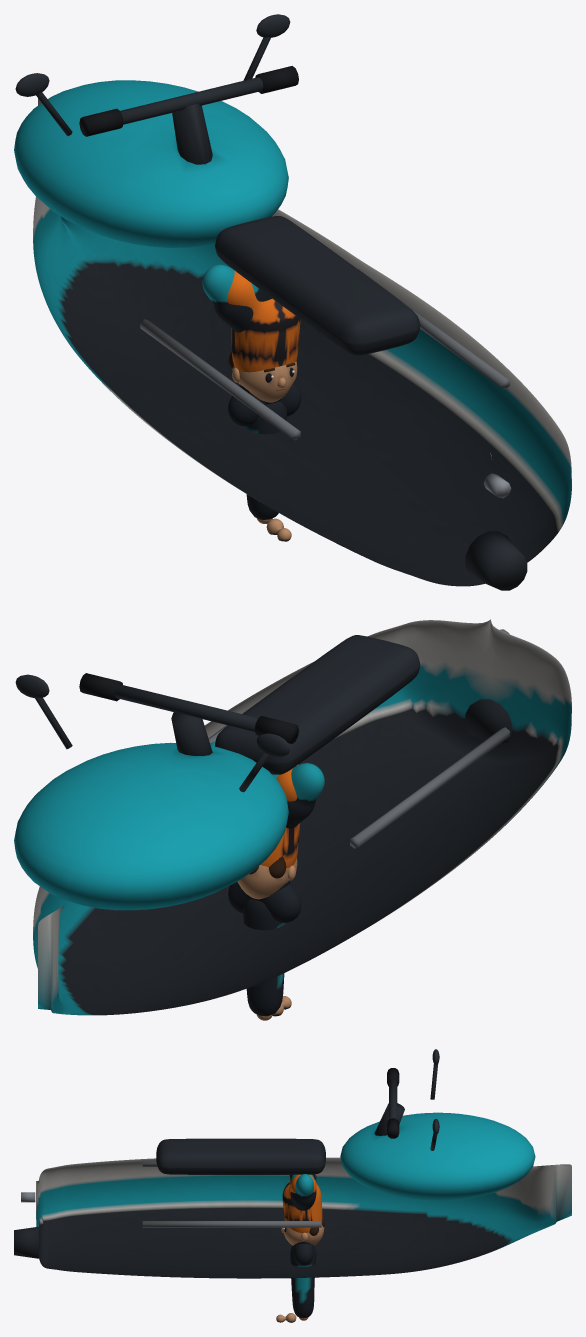
The model's file is characters_cosy.glb.
3 views of the same model, one above another, from view 1: azimuth 30°, elevation 25°; view 2: azimuth 150°, elevation 25°; view 3: azimuth 270°, elevation 25° (orthographic). The views are drawn at different scales.
Visible parts, largest first — view 1: jetski, char_vest, char_chest, char_head, char_hips, char_thigh; view 2: jetski, char_thigh, char_chest, char_hips, char_head, char_vest; view 3: jetski, char_vest, char_thigh, char_chest, char_head, char_hips.
Part boxes in pixels (x1=…): jetski: x1=14, y1=14, x2=571, y2=590; char_vest: x1=227, y1=270, x2=300, y2=372; char_chest: x1=202, y1=264, x2=281, y2=404; char_head: x1=228, y1=350, x2=297, y2=402; char_hips: x1=228, y1=382, x2=301, y2=426; char_thigh: x1=244, y1=401, x2=286, y2=519; jetski: x1=14, y1=619, x2=571, y2=1015; char_thigh: x1=243, y1=899, x2=285, y2=1016; char_chest: x1=210, y1=741, x2=324, y2=901; char_hips: x1=228, y1=882, x2=301, y2=922; char_head: x1=237, y1=856, x2=297, y2=899; char_vest: x1=260, y1=764, x2=299, y2=868; jetski: x1=14, y1=1049, x2=571, y2=1278; char_vest: x1=282, y1=1174, x2=322, y2=1233; char_thigh: x1=290, y1=1245, x2=316, y2=1318; char_chest: x1=289, y1=1174, x2=316, y2=1245; char_head: x1=281, y1=1217, x2=324, y2=1245; char_hips: x1=293, y1=1244, x2=314, y2=1265.
Bounding box in the file's own units: 1.1 × 1.46 × 3.12.
